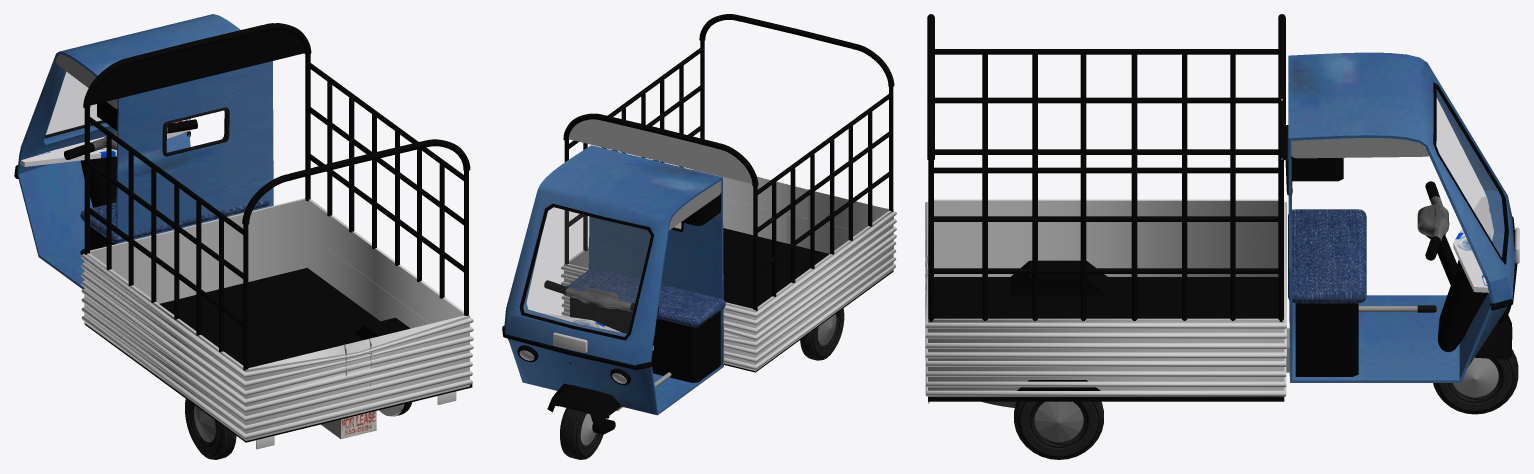
Rendered from Tempo.FBX.
3 views of the same model, side by side, from view 1: azimuth 30°, elevation 25°; view 2: azimuth 150°, elevation 25°; view 3: azimuth 270°, elevation 25° (orthographic). The views are drawn at different scales.
Visible parts, largest first — view 1: Line001, Rectangle004, Rectangle002, Rectangle003, Box003, Arc015, Arc014, ChamferBox001, Tube001, Cylinder018, Cylinder019, Line003 (+27 smaller); view 2: Line001, Rectangle002, Box004, Rectangle003, Box003, Rectangle004, ChamferBox001, Tube003, Box001, Arc015, Arc014, Cylinder026 (+18 smaller); view 3: Line001, Rectangle004, Rectangle002, Rectangle003, ChamferBox001, Box004, Tube003, Tube002, Line005, Box007, Cylinder019, Cylinder020 (+26 smaller).
Part boxes in pixels (x1,y1,x2,y2): Line001: (17,14,273,289); Rectangle004: (185,198,473,414); Rectangle002: (80,221,371,440); Rectangle003: (84,268,472,442); Box003: (90,23,305,105); Arc015: (242,139,470,224); Arc014: (83,23,311,108); ChamferBox001: (80,199,269,243); Tube001: (185,399,236,459); Cylinder018: (86,116,243,234); Cylinder019: (306,62,463,180); Line003: (20,119,192,166); Line001: (504,145,723,415); Rectangle002: (723,184,896,371); Box004: (570,297,720,382); Rectangle003: (723,228,893,372); Box003: (568,113,752,183); Rectangle004: (561,169,808,316); ChamferBox001: (565,267,725,327); Tube003: (560,408,605,459); Box001: (547,383,621,422); Arc015: (699,14,894,87); Arc014: (563,113,758,186); Cylinder026: (544,280,658,314); Line001: (1288,52,1514,382); Rectangle004: (925,253,1286,396); Rectangle002: (925,199,1286,299); Rectangle003: (928,277,1284,401); ChamferBox001: (1288,209,1366,303); Box004: (1295,303,1358,376); Tube003: (1433,349,1518,414); Tube002: (1014,401,1103,459); Line005: (1291,138,1428,158); Box007: (1010,260,1108,295); Cylinder019: (933,167,1279,173); Cylinder020: (935,97,1278,103).
Bounding box in the file's own units: 33.93 × 45.34 × 69.15.
